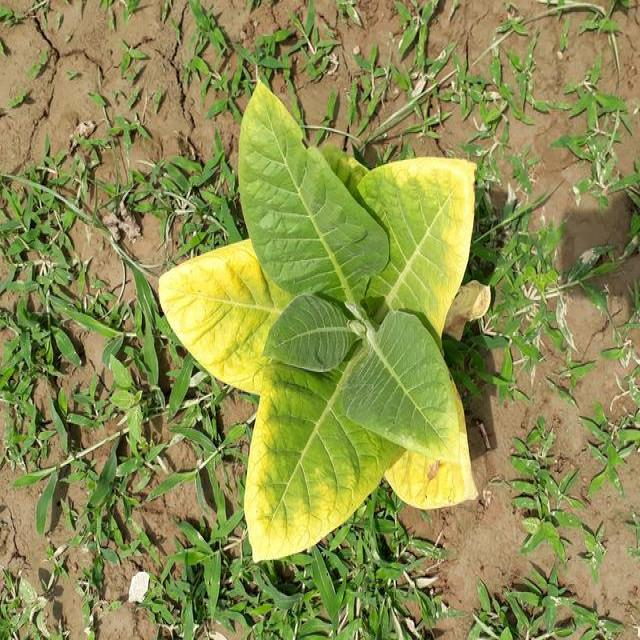crop: (156, 58, 493, 571)
